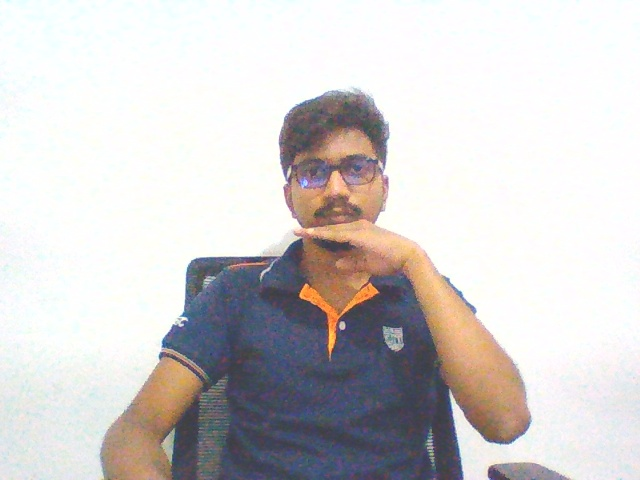elephant: (286, 216, 420, 284)
